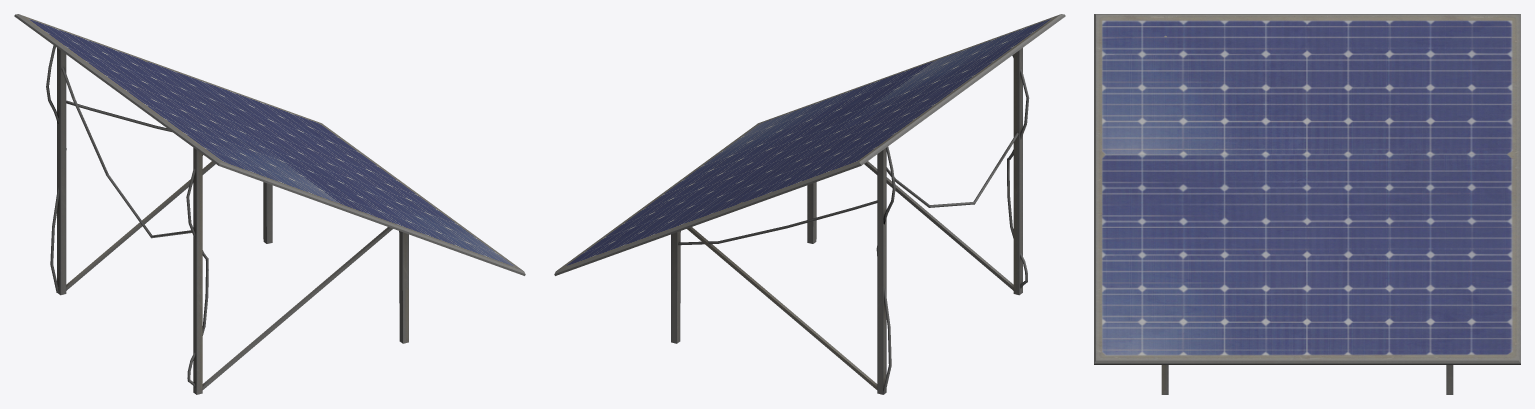
The picture shows the model from 3 angles, left to right: view 1: azimuth 30°, elevation 25°; view 2: azimuth 150°, elevation 25°; view 3: azimuth 270°, elevation 25°; orthographic projection. The views are drawn at different scales.
Parts seen in each view (by area): view 1: Cube.7, Sweep; view 2: Cube.7, Sweep; view 3: Cube.7.
Boxes of the visible parts, x1,y1,x2,y2 form: Cube.7: [14, 14, 525, 394]; Sweep: [46, 45, 208, 387]; Cube.7: [554, 14, 1065, 394]; Sweep: [678, 54, 1029, 394]; Cube.7: [1094, 14, 1520, 394].
Bounding box in the file's own units: 105 × 83.67 × 120.
10 materials, 9 textured.
